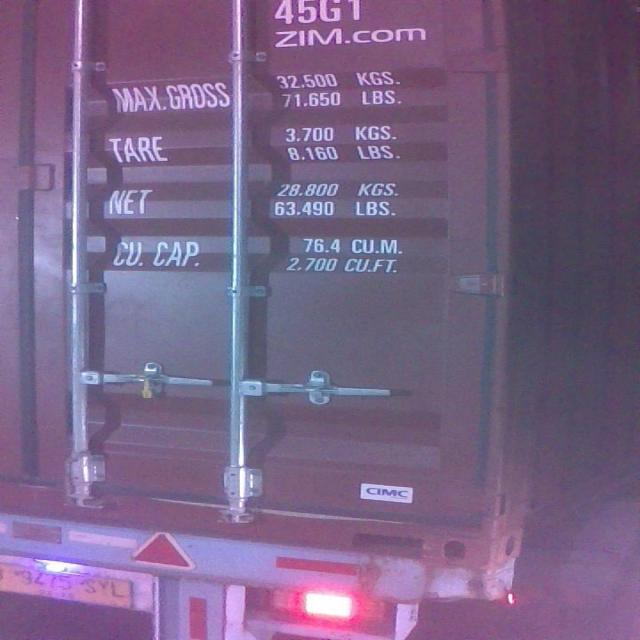seal: (139, 371, 159, 398)
